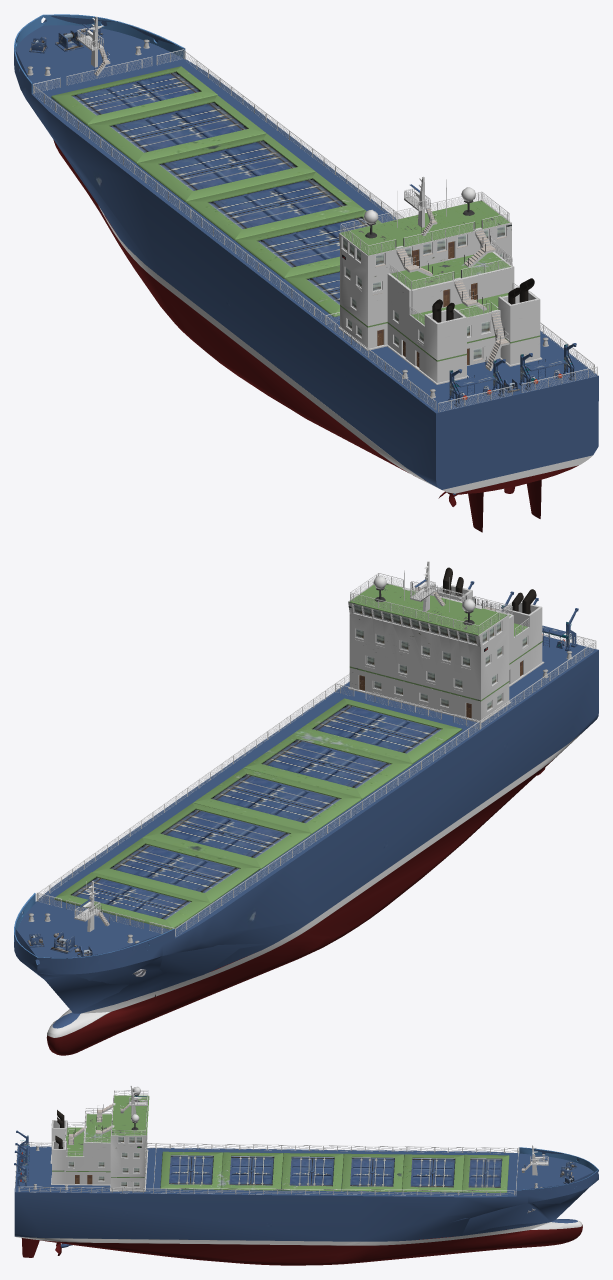
Rendered from la-port-zone-c5-unauthorised-ship-optimized.glb.
3 views of the same model, one above another, from view 1: azimuth 30°, elevation 25°; view 2: azimuth 150°, elevation 25°; view 3: azimuth 270°, elevation 25° (orthographic). The views are drawn at different scales.
Parts seen in each view (by area): view 1: Object_27; view 2: Object_27; view 3: Object_27.
Boxes of the visible parts, x1=… form: Object_27: x1=14, y1=14, x2=598, y2=532; Object_27: x1=14, y1=561, x2=598, y2=1055; Object_27: x1=14, y1=1085, x2=598, y2=1265.
Size of the model in its own units: 21.73 by 32.74 by 106.
Materials: 91 (74 with a texture image).
